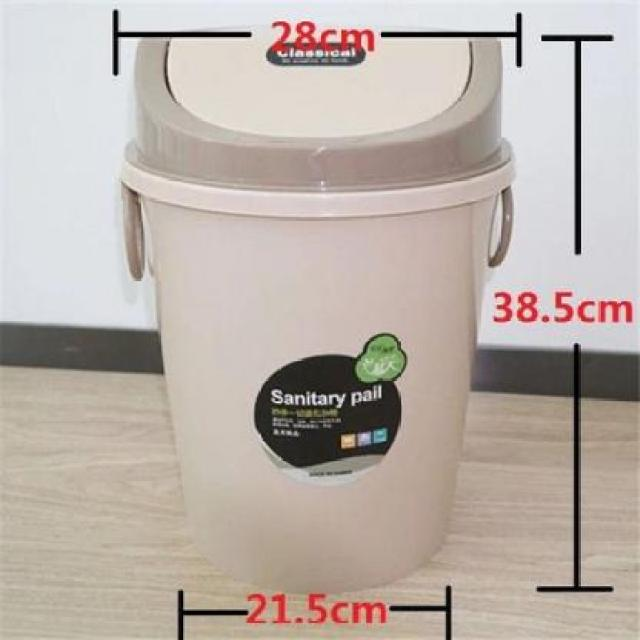dustbin: (112, 29, 525, 598)
